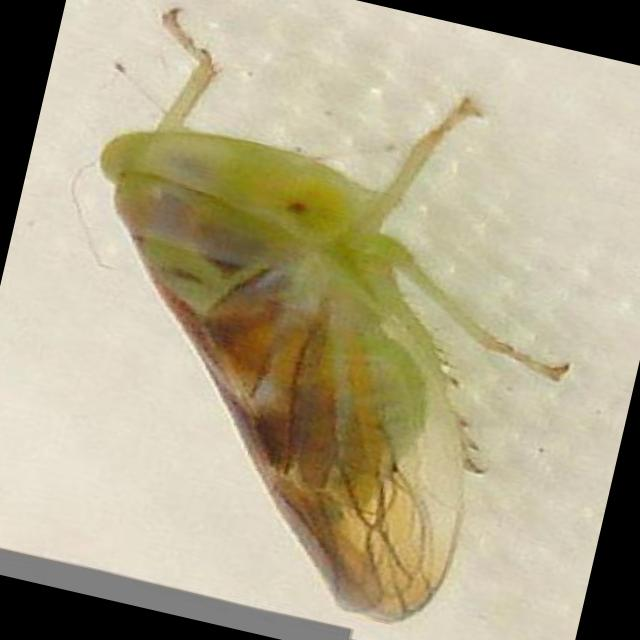green-leafhopper: (13, 95, 536, 632)
